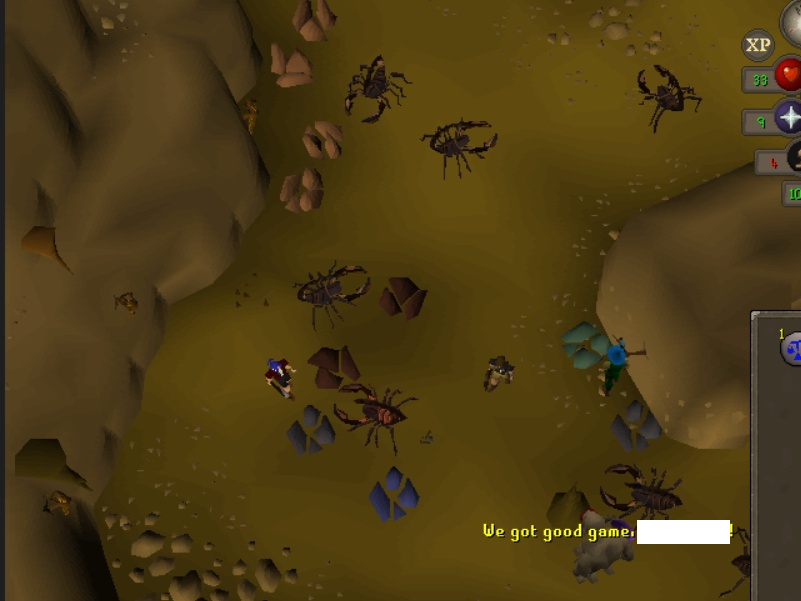adamant: (557, 313, 610, 371)
copper: (270, 163, 329, 216), (292, 111, 351, 164), (263, 38, 319, 91), (281, 1, 345, 44)
iron: (374, 266, 437, 328), (301, 335, 364, 397)
mithril: (364, 459, 423, 525)
